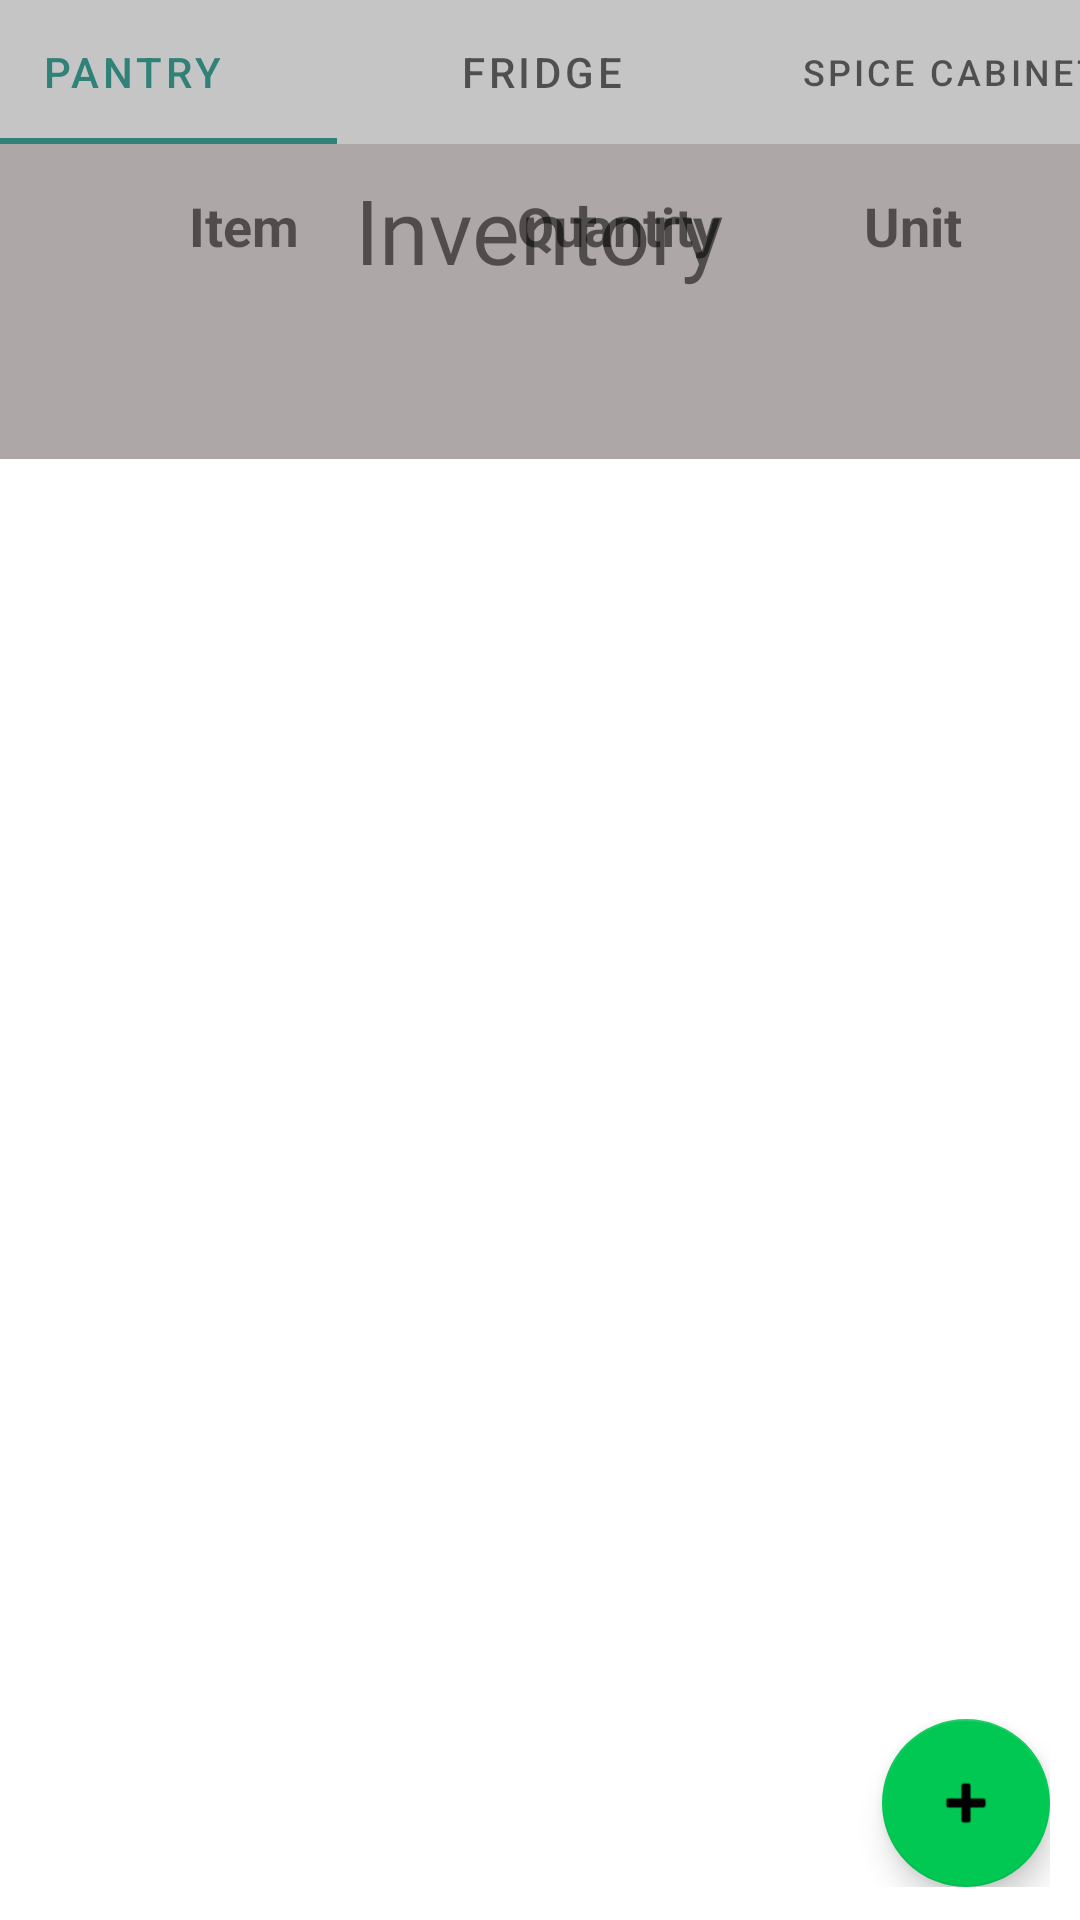

Named icons in this screenshot (1080px×1920px) and their centers, [x,y]:
Add Item: [966,1803]
